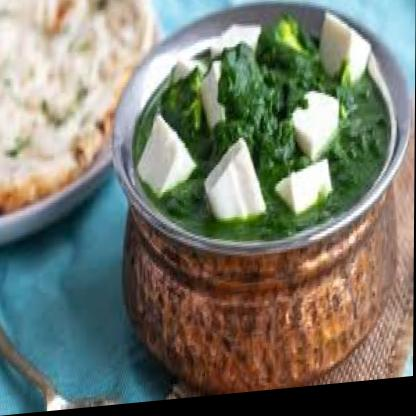palak_paneer: (131, 14, 393, 258)
